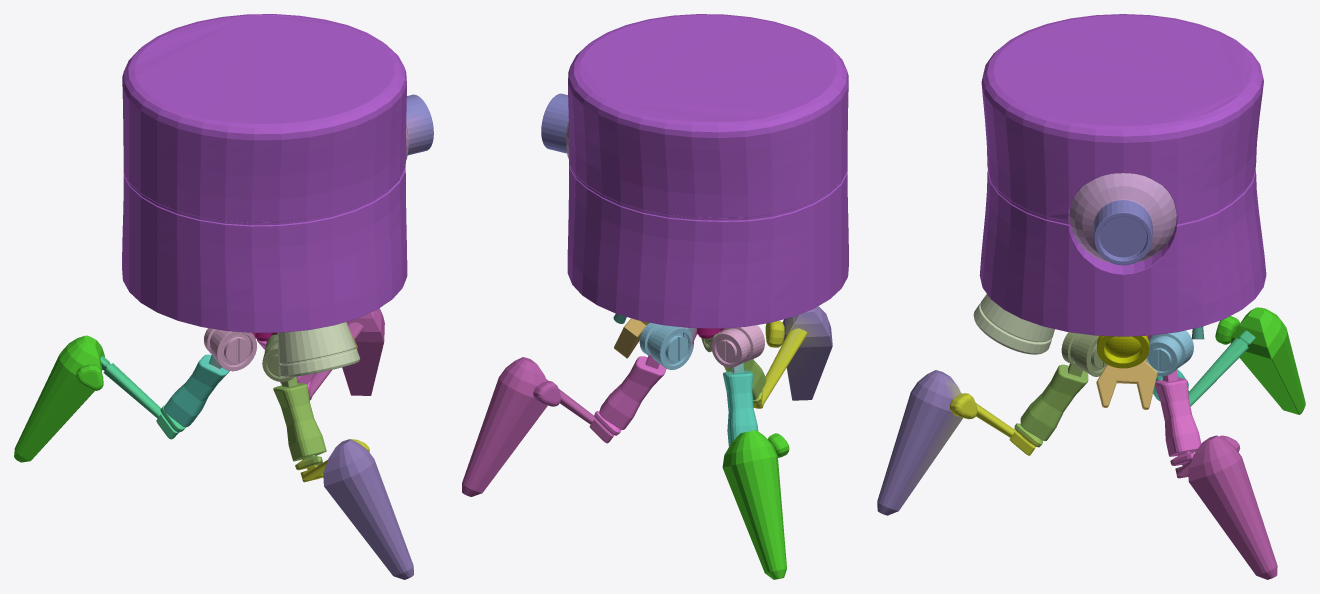
3 views of the same model, side by side, from view 1: azimuth 30°, elevation 25°; view 2: azimuth 150°, elevation 25°; view 3: azimuth 270°, elevation 25° (orthographic). The views are drawn at different scales.
Visible parts, largest first — view 1: world; view 2: world; view 3: world.
Boxes of the visible parts, x1,y1,x2,y2 form: world: (14, 14, 433, 579); world: (462, 14, 848, 579); world: (877, 14, 1305, 579).
Size of the model in its own units: 0.8324 by 1 by 0.8992.
